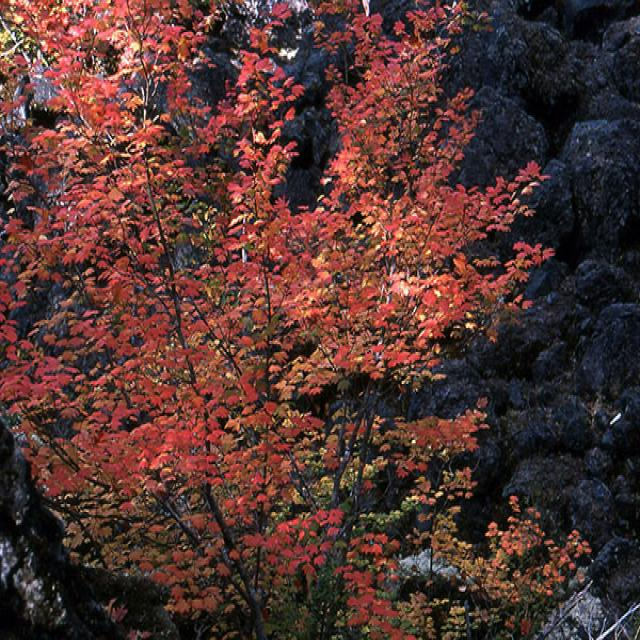Acer circinatum: (0, 0, 554, 635)
